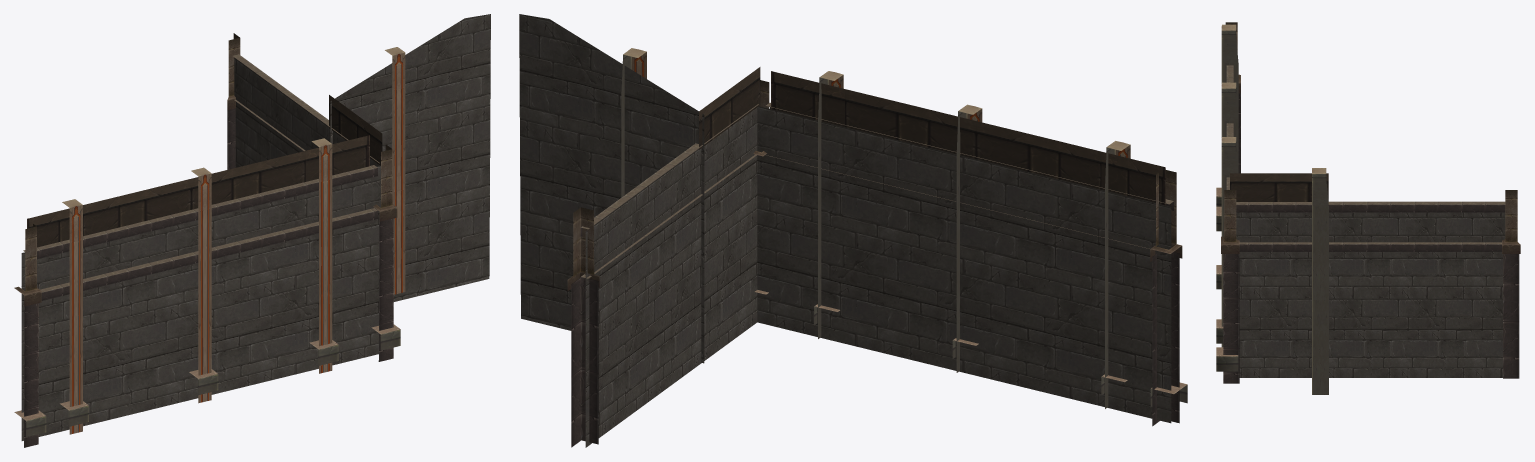
File: terrain_section03_guanka1112.FBX
The picture shows the model from 3 angles, left to right: view 1: azimuth 30°, elevation 25°; view 2: azimuth 150°, elevation 25°; view 3: azimuth 270°, elevation 25°; orthographic projection. The views are drawn at different scales.
Visible parts, largest first — view 1: terrain_section03_guanka1112; view 2: terrain_section03_guanka1112; view 3: terrain_section03_guanka1112.
Boxes of the visible parts, bbox=[...] form: terrain_section03_guanka1112: bbox=[14, 14, 490, 447]; terrain_section03_guanka1112: bbox=[519, 14, 1187, 447]; terrain_section03_guanka1112: bbox=[1216, 22, 1520, 394].
Bounding box in the file's own units: 54.23 × 26.75 × 29.63.
